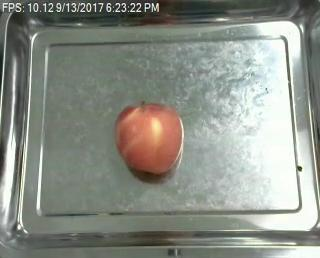apple: (113, 101, 183, 174)
